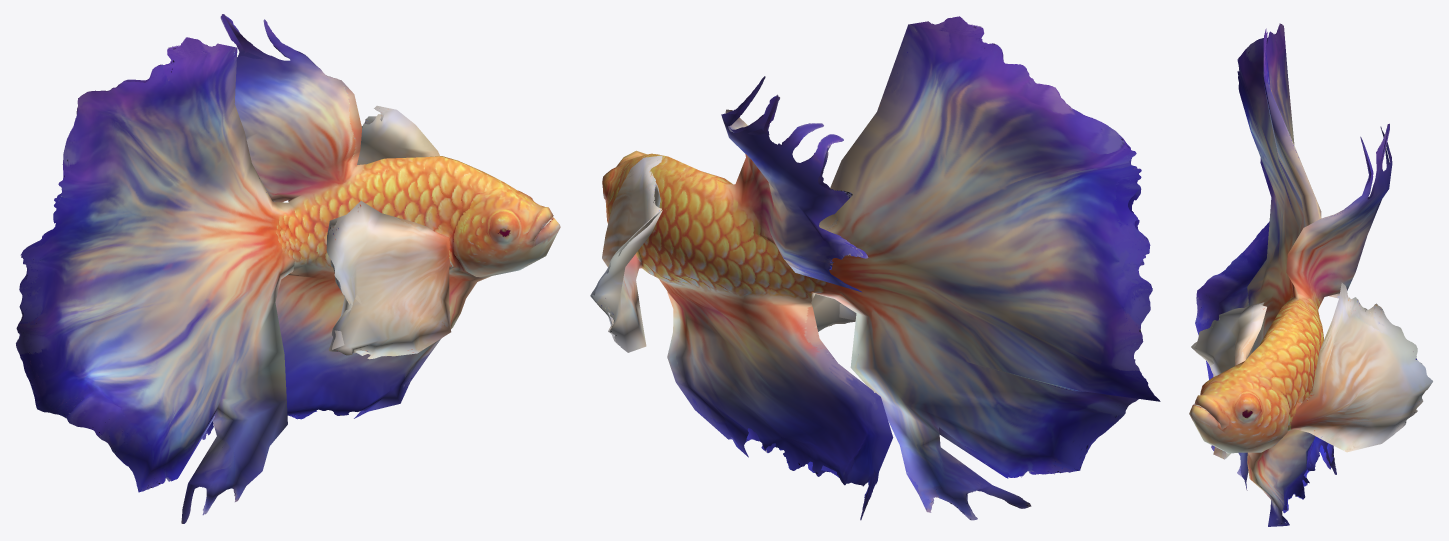
Rendered from betta.glb.
The picture shows the model from 3 angles, left to right: view 1: azimuth 30°, elevation 25°; view 2: azimuth 150°, elevation 25°; view 3: azimuth 270°, elevation 25°; orthographic projection. The views are drawn at different scales.
Visible parts, largest first — view 1: Object_2; view 2: Object_2; view 3: Object_2.
Part boxes in pixels (x1,y1,x2,y2): Object_2: [16, 14, 560, 523]; Object_2: [590, 16, 1160, 520]; Object_2: [1189, 23, 1432, 526].
Size of the model in its own units: 1.13 by 0.9942 by 0.4937.
1 material, 1 textured.
